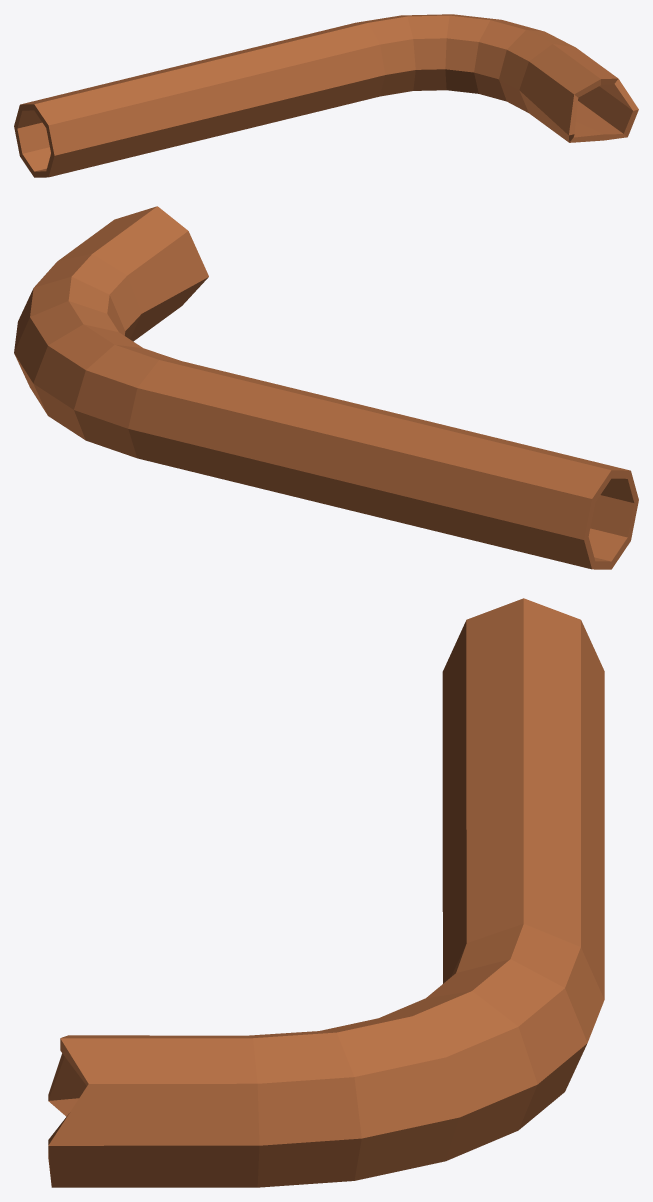
File: pipe1.fbx
The picture shows the model from 3 angles, top to bottom: view 1: azimuth 30°, elevation 25°; view 2: azimuth 150°, elevation 25°; view 3: azimuth 270°, elevation 25°; orthographic projection. The views are drawn at different scales.
Visible parts, largest first — view 1: Vert.005; view 2: Vert.005; view 3: Vert.005.
Boxes of the visible parts, box(x1,y1,x2,y2) form: Vert.005: box(14, 14, 638, 177); Vert.005: box(14, 206, 638, 569); Vert.005: box(48, 598, 604, 1187).
Bounding box in the file's own units: 4154 × 600 × 2061.
